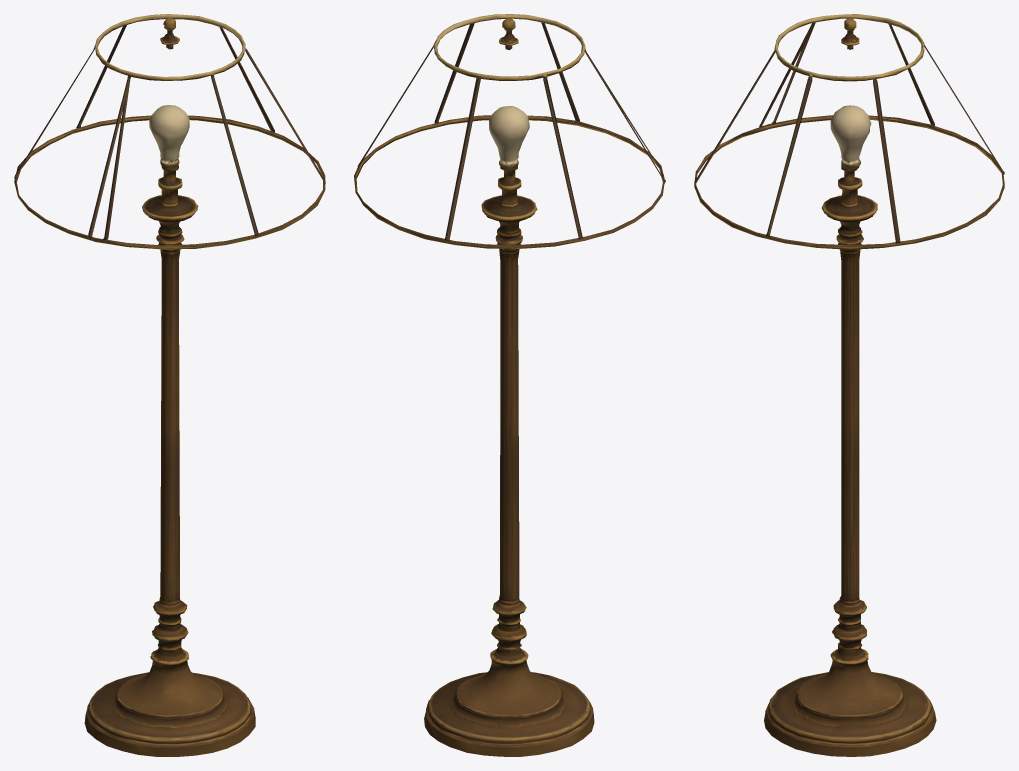
3 renders of one model, left to right at view 1: azimuth 30°, elevation 25°; view 2: azimuth 150°, elevation 25°; view 3: azimuth 270°, elevation 25°, orthographic.
Parts seen in each view (by area): view 1: tripo_node_2b5f716a-9754-48d9-8635-2f9ccf451003; view 2: tripo_node_2b5f716a-9754-48d9-8635-2f9ccf451003; view 3: tripo_node_2b5f716a-9754-48d9-8635-2f9ccf451003.
Part boxes in pixels (left/top/right/bottom): tripo_node_2b5f716a-9754-48d9-8635-2f9ccf451003: left=14, top=14, right=325, bottom=756; tripo_node_2b5f716a-9754-48d9-8635-2f9ccf451003: left=354, top=14, right=665, bottom=756; tripo_node_2b5f716a-9754-48d9-8635-2f9ccf451003: left=694, top=14, right=1004, bottom=756.
Bounding box in the file's own units: 0.4004 × 0.998 × 0.4004.
Materials: 1 (1 with a texture image).
